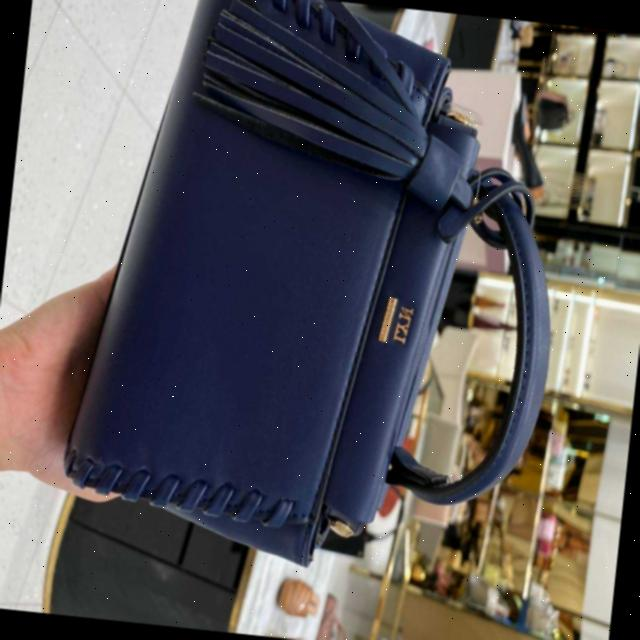Handbag: (53, 0, 528, 587)
